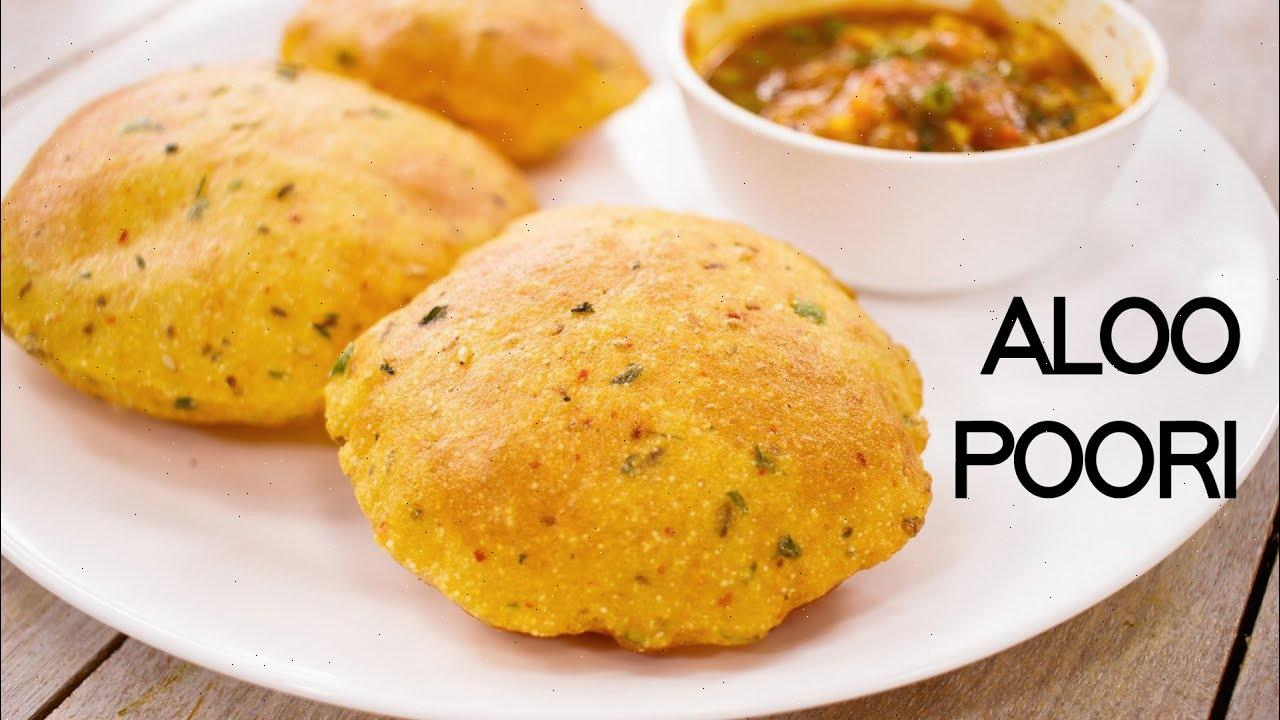puri: (14, 62, 694, 632)
